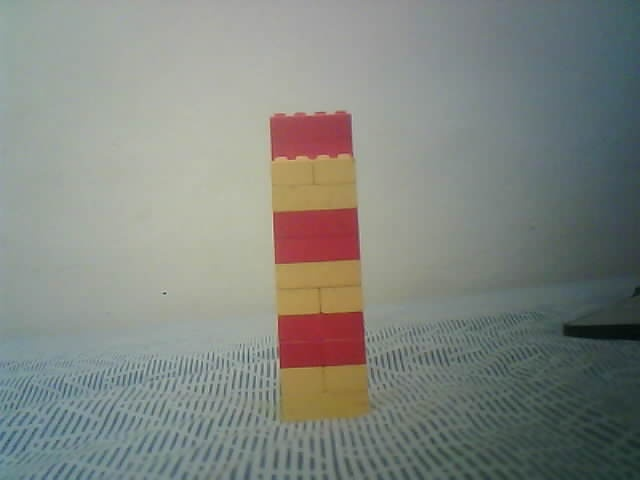lego: (267, 108, 370, 425)
